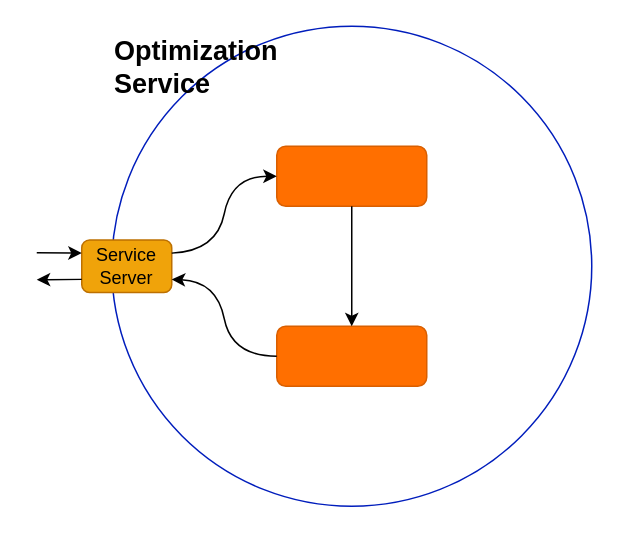
Some shapes in this 618 by 533 pixel diagram are drawn without their labels. The shapes that lost their labels are listed below. From the top down, each one's box as (x1, y1, x2, y2) in pixels, then its label:
(275, 145, 427, 206): Optimization Input Transformer
(275, 325, 427, 386): Optimization Algorithm
